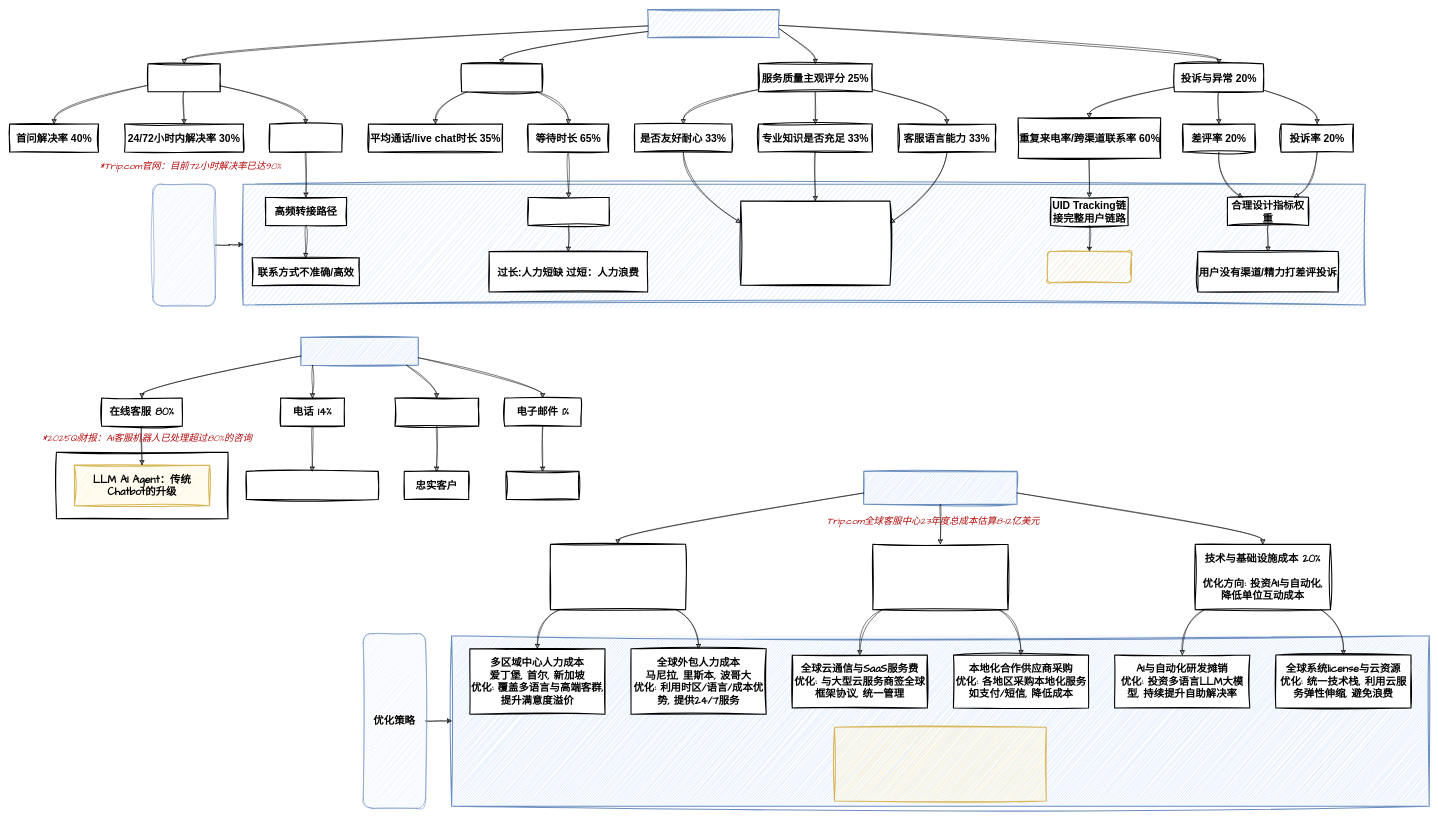
This 1438x817 diagram has some shape labels left out. Here are the shapes that lost their labels. From the top down, the centre of each, then its label:
At [713,23]: "客户满意度".
At [183,77]: "解决率 35%".
At [501,77]: "时效指标 20%".
At [305,137]: "转接率 30%".
At [568,211]: "客服资源调配".
At [183,245]: "衍生分析".
At [815,242]: "统计分析 1. 直方图直观查看分数分布 2. 均分快速了解整体水平 3. 中位数检查分布偏态 4. 识别极端体验".
At [1089,267]: "利用SHAP模型进行复杂归因".
At [359,351]: "服务渠道升级".
At [436,411]: "In-App Call 5%".
At [312,485]: "全球18个客服中心超1000人".
At [542,485]: "非紧急事项".
At [940,487]: "客服成本分析".
At [618,576]: "全球多中心人力成本 65% 优化方向: 全球人力套利, 提升高端技能人效".
At [940,576]: "外包与采购成本 15% 优化方向: 建立全球外包网络, 引入竞争".
At [940,763]: "根本性优化 1. 完善产品体验，减少咨询 2. 化被动应对为主动提前通知".
